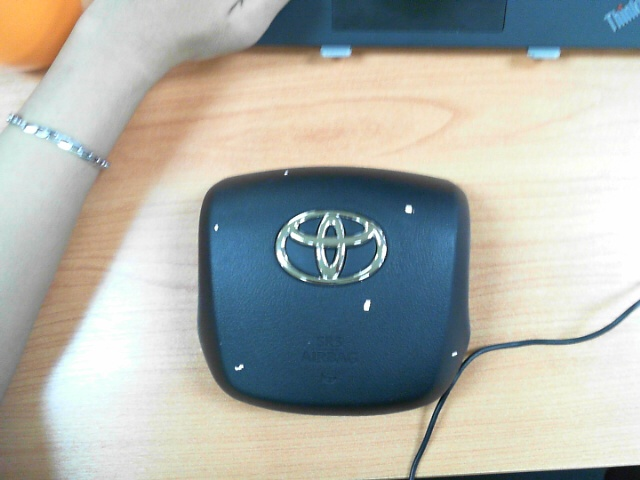Airbag: (404, 203, 415, 217), (363, 298, 371, 312), (234, 363, 245, 372), (214, 223, 220, 232), (451, 351, 457, 358), (283, 170, 289, 176)
